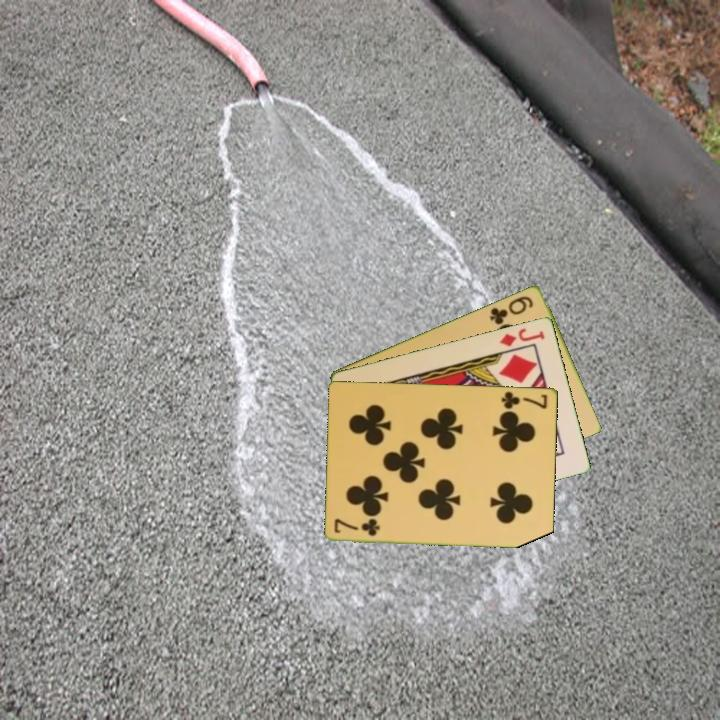6c: (486, 292, 536, 327)
7c: (499, 387, 550, 412), (331, 516, 383, 538)
Jd: (496, 324, 548, 349)
